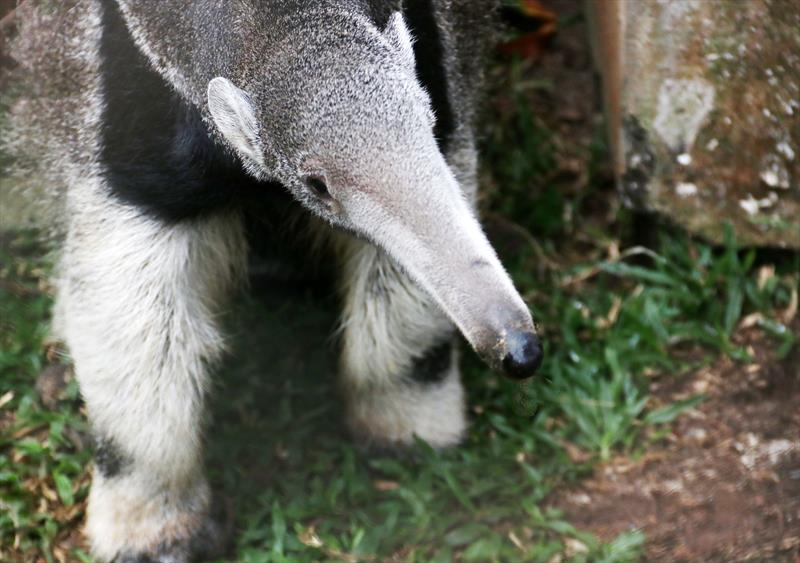TamanduaBandeira: (14, 7, 551, 518)
